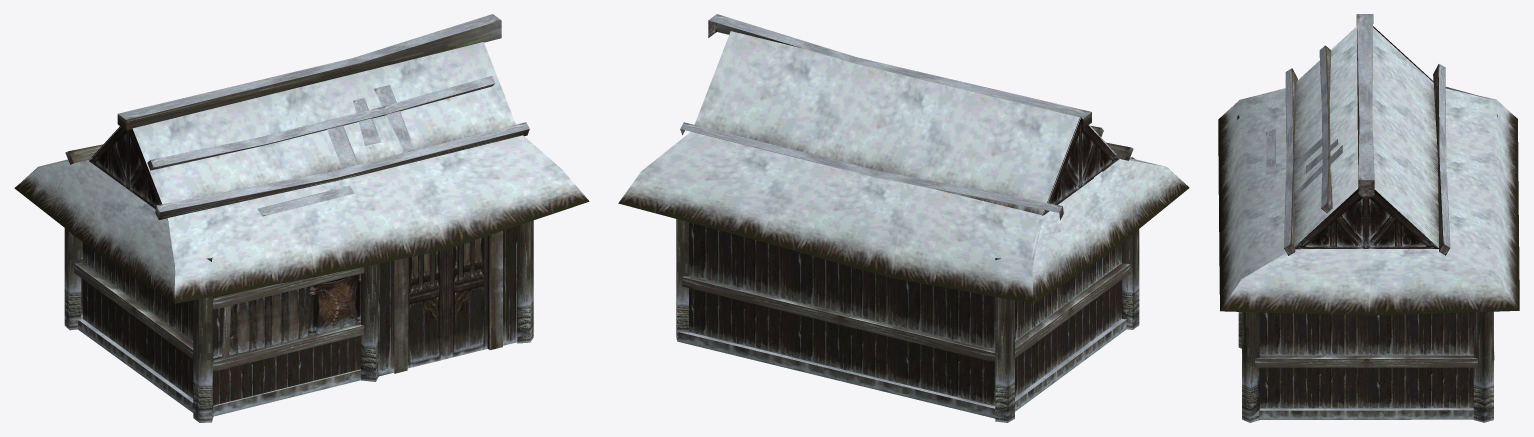
File: SC001Jjianzhu_47.FBX
The picture shows the model from 3 angles, left to right: view 1: azimuth 30°, elevation 25°; view 2: azimuth 150°, elevation 25°; view 3: azimuth 270°, elevation 25°; orthographic projection. The views are drawn at different scales.
Parts seen in each view (by area): view 1: SC001Jjianzhu_47; view 2: SC001Jjianzhu_47; view 3: SC001Jjianzhu_47.
Boxes of the visible parts, <box> form: SC001Jjianzhu_47: <box>14,14,589,422</box>; SC001Jjianzhu_47: <box>618,14,1189,422</box>; SC001Jjianzhu_47: <box>1218,14,1519,422</box>.
Size of the model in its own units: 7.86 by 4.84 by 5.2.
